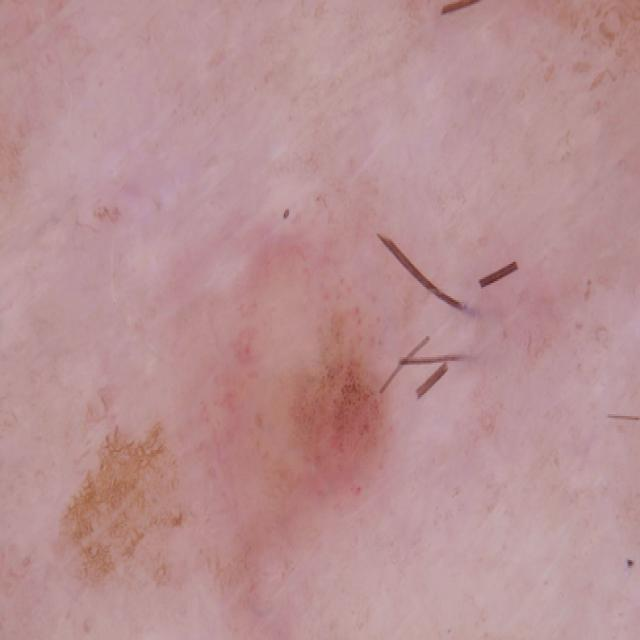Carcinoma: (207, 271, 444, 618)
